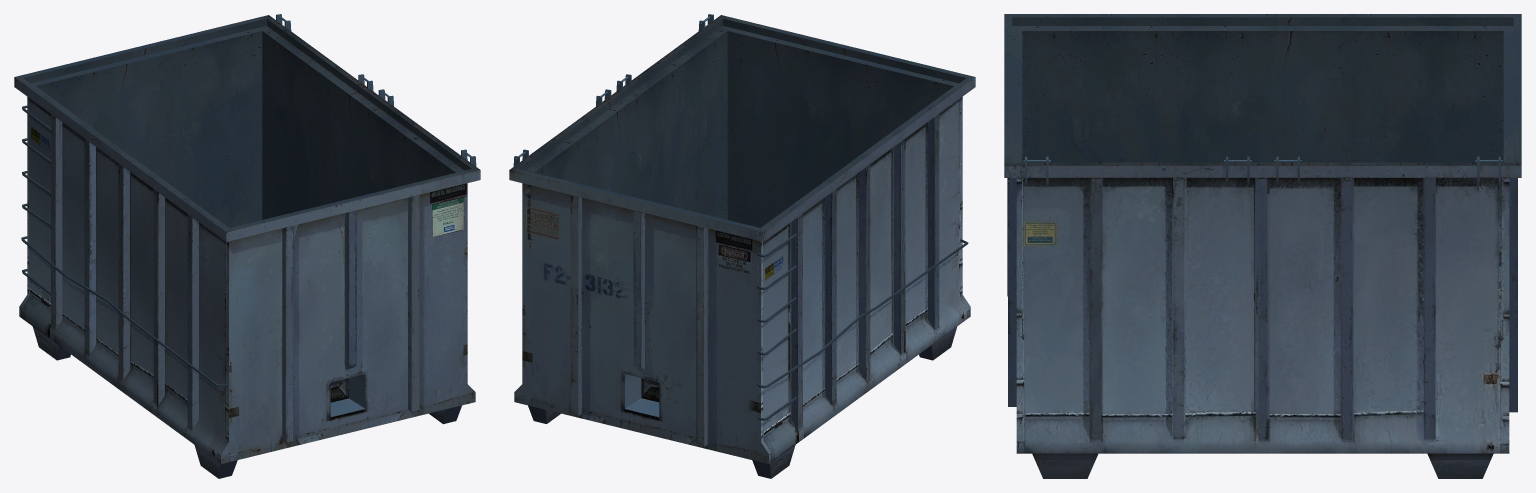
The picture shows the model from 3 angles, left to right: view 1: azimuth 30°, elevation 25°; view 2: azimuth 150°, elevation 25°; view 3: azimuth 270°, elevation 25°; orthographic projection. The views are drawn at different scales.
Visible parts, largest first — view 1: td2; view 2: td2; view 3: td2.
Part boxes in pixels (x1,y1,x2,y2): td2: (14,14,480,478); td2: (509,14,975,478); td2: (1004,14,1521,478).
Bounding box in the file's own units: 3.79 × 3.69 × 5.3.
1 material, 1 textured.
